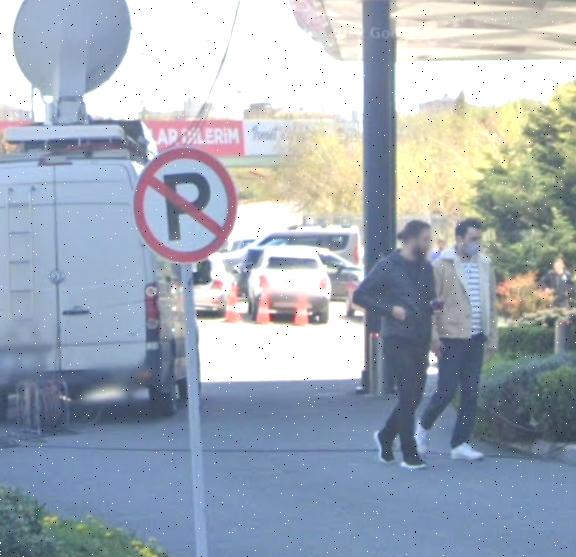nopark: (133, 144, 233, 264)
